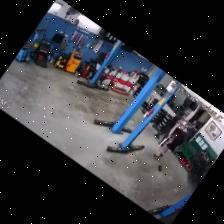person: (154, 120, 187, 157), (154, 113, 183, 142)
